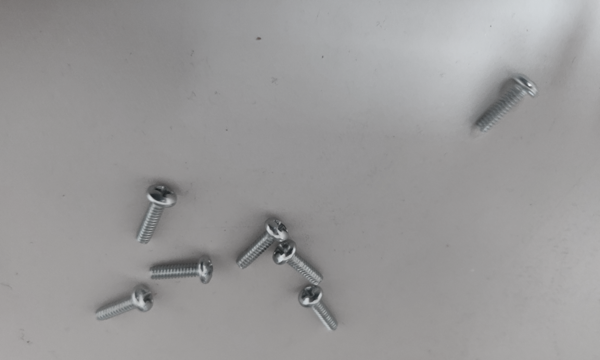shortscrew: (475, 72, 539, 134), (236, 218, 289, 270), (136, 185, 177, 244), (273, 240, 324, 286), (95, 286, 154, 322), (150, 255, 213, 285), (299, 286, 339, 332)
